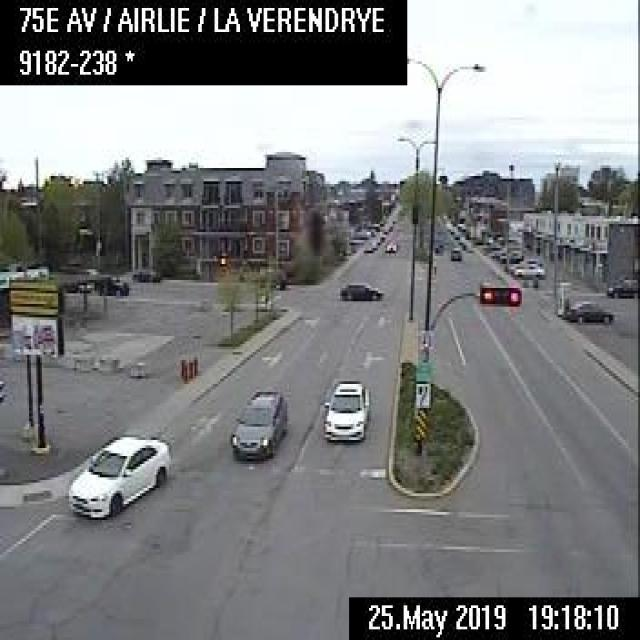construction: (181, 359, 187, 382), (191, 354, 197, 374), (186, 358, 192, 378)
vehicle: (64, 429, 171, 523), (228, 384, 288, 456), (320, 376, 370, 440), (564, 296, 612, 327), (337, 277, 382, 301), (87, 270, 131, 294), (605, 275, 637, 296), (513, 261, 544, 278), (132, 265, 160, 282), (498, 248, 523, 261), (449, 246, 461, 261), (384, 239, 396, 253), (362, 242, 373, 253)
